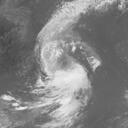cyclone: (40, 54, 89, 109)
